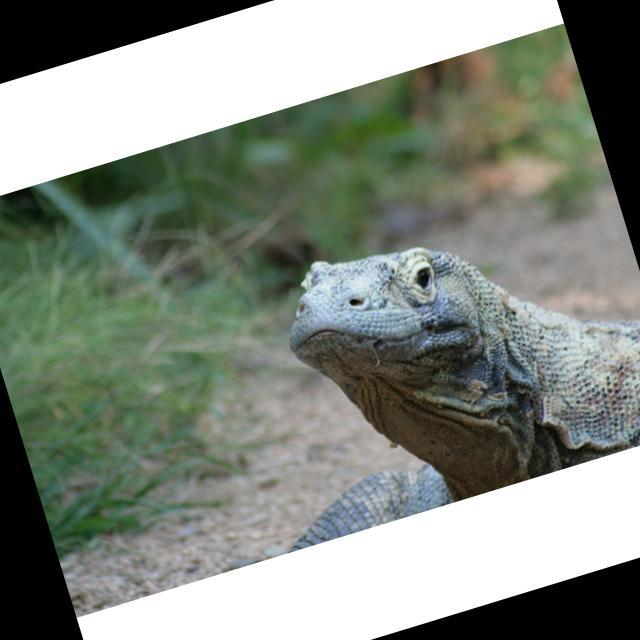KomodoDragon: (207, 170, 640, 551)
